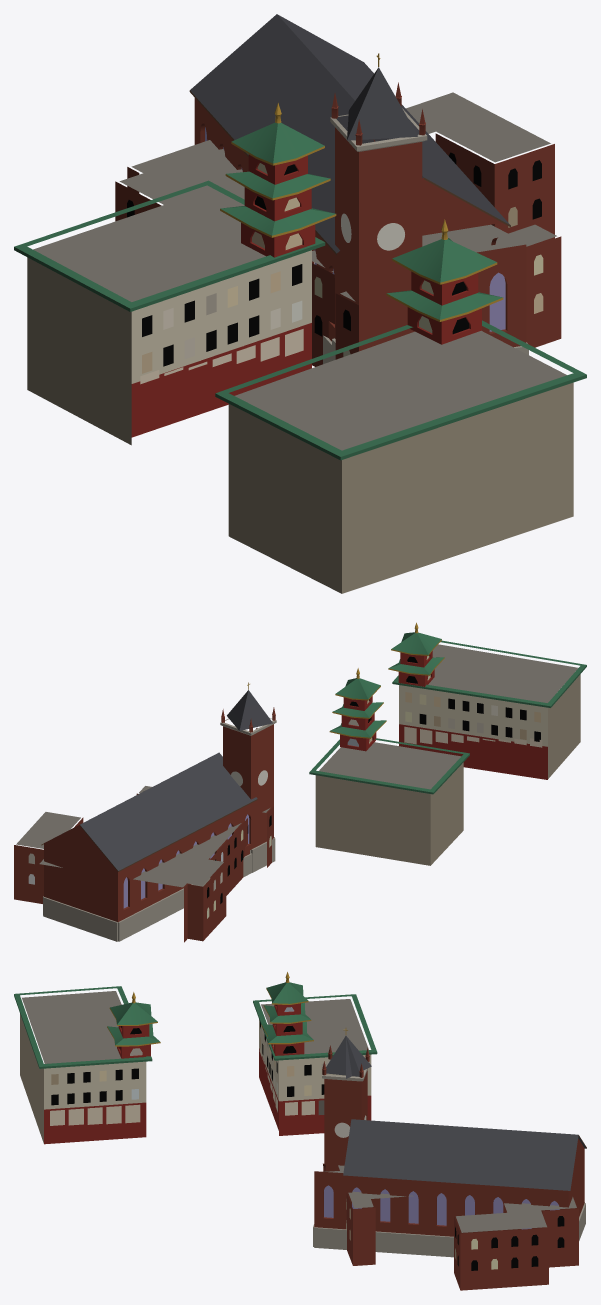
File: chinatown_lod1.glb
3 views of the same model, one above another, from view 1: azimuth 30°, elevation 25°; view 2: azimuth 150°, elevation 25°; view 3: azimuth 270°, elevation 25° (orthographic). The views are drawn at different scales.
Visible parts, largest first — view 1: L1_stucco, L1_roof, L1_brickred, L1_paint, L1_rooftile, L1_win, L1_shop, L1_granite, L1_lamp; view 2: L1_roof, L1_stucco, L1_brickred, L1_paint, L1_granite, L1_win, L1_rooftile, L1_shop; view 3: L1_roof, L1_brickred, L1_paint, L1_stucco, L1_win, L1_rooftile, L1_granite, L1_shop.
Part boxes in pixels (bbox=[...]): L1_stucco: bbox=[27, 250, 573, 593]; L1_roof: bbox=[33, 14, 566, 450]; L1_brickred: bbox=[115, 82, 561, 366]; L1_paint: bbox=[14, 142, 586, 460]; L1_rooftile: bbox=[220, 122, 502, 319]; L1_win: bbox=[127, 127, 543, 373]; L1_shop: bbox=[140, 329, 303, 384]; L1_granite: bbox=[323, 108, 528, 364]; L1_lamp: bbox=[341, 213, 404, 250]; L1_roof: bbox=[16, 644, 577, 887]; L1_stucco: bbox=[315, 674, 580, 865]; L1_brickred: bbox=[14, 707, 275, 942]; L1_paint: bbox=[309, 639, 586, 794]; L1_granite: bbox=[43, 718, 276, 941]; L1_win: bbox=[28, 656, 540, 918]; L1_rooftile: bbox=[330, 632, 444, 737]; L1_shop: bbox=[404, 726, 542, 747]; L1_roof: bbox=[22, 991, 586, 1232]; L1_brickred: bbox=[314, 1045, 584, 1290]; L1_paint: bbox=[14, 986, 377, 1144]; L1_stucco: bbox=[20, 1014, 371, 1143]; L1_win: bbox=[51, 1005, 564, 1270]; L1_rooftile: bbox=[107, 982, 313, 1045]; L1_granite: bbox=[313, 1059, 585, 1257]; L1_shop: bbox=[50, 1047, 324, 1125].
Bounding box in the file's own units: 79.03 × 42.52 × 109.
